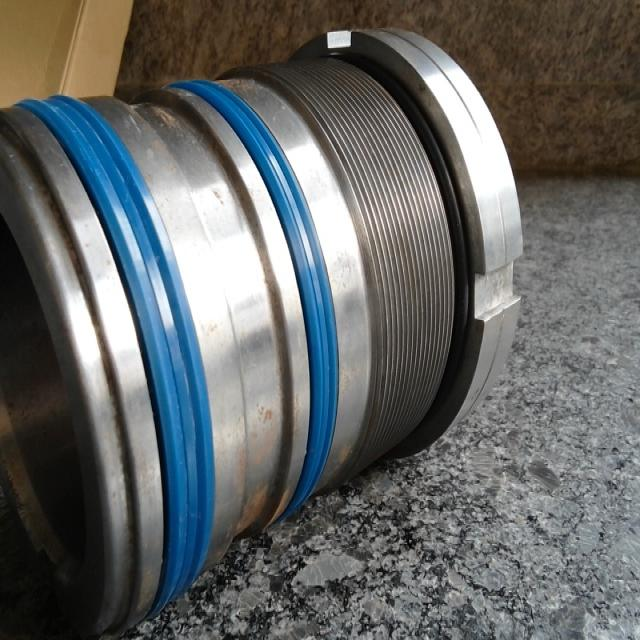black-ring: (337, 40, 470, 458)
purssian-blue-ring: (22, 97, 212, 615), (172, 82, 336, 520)
